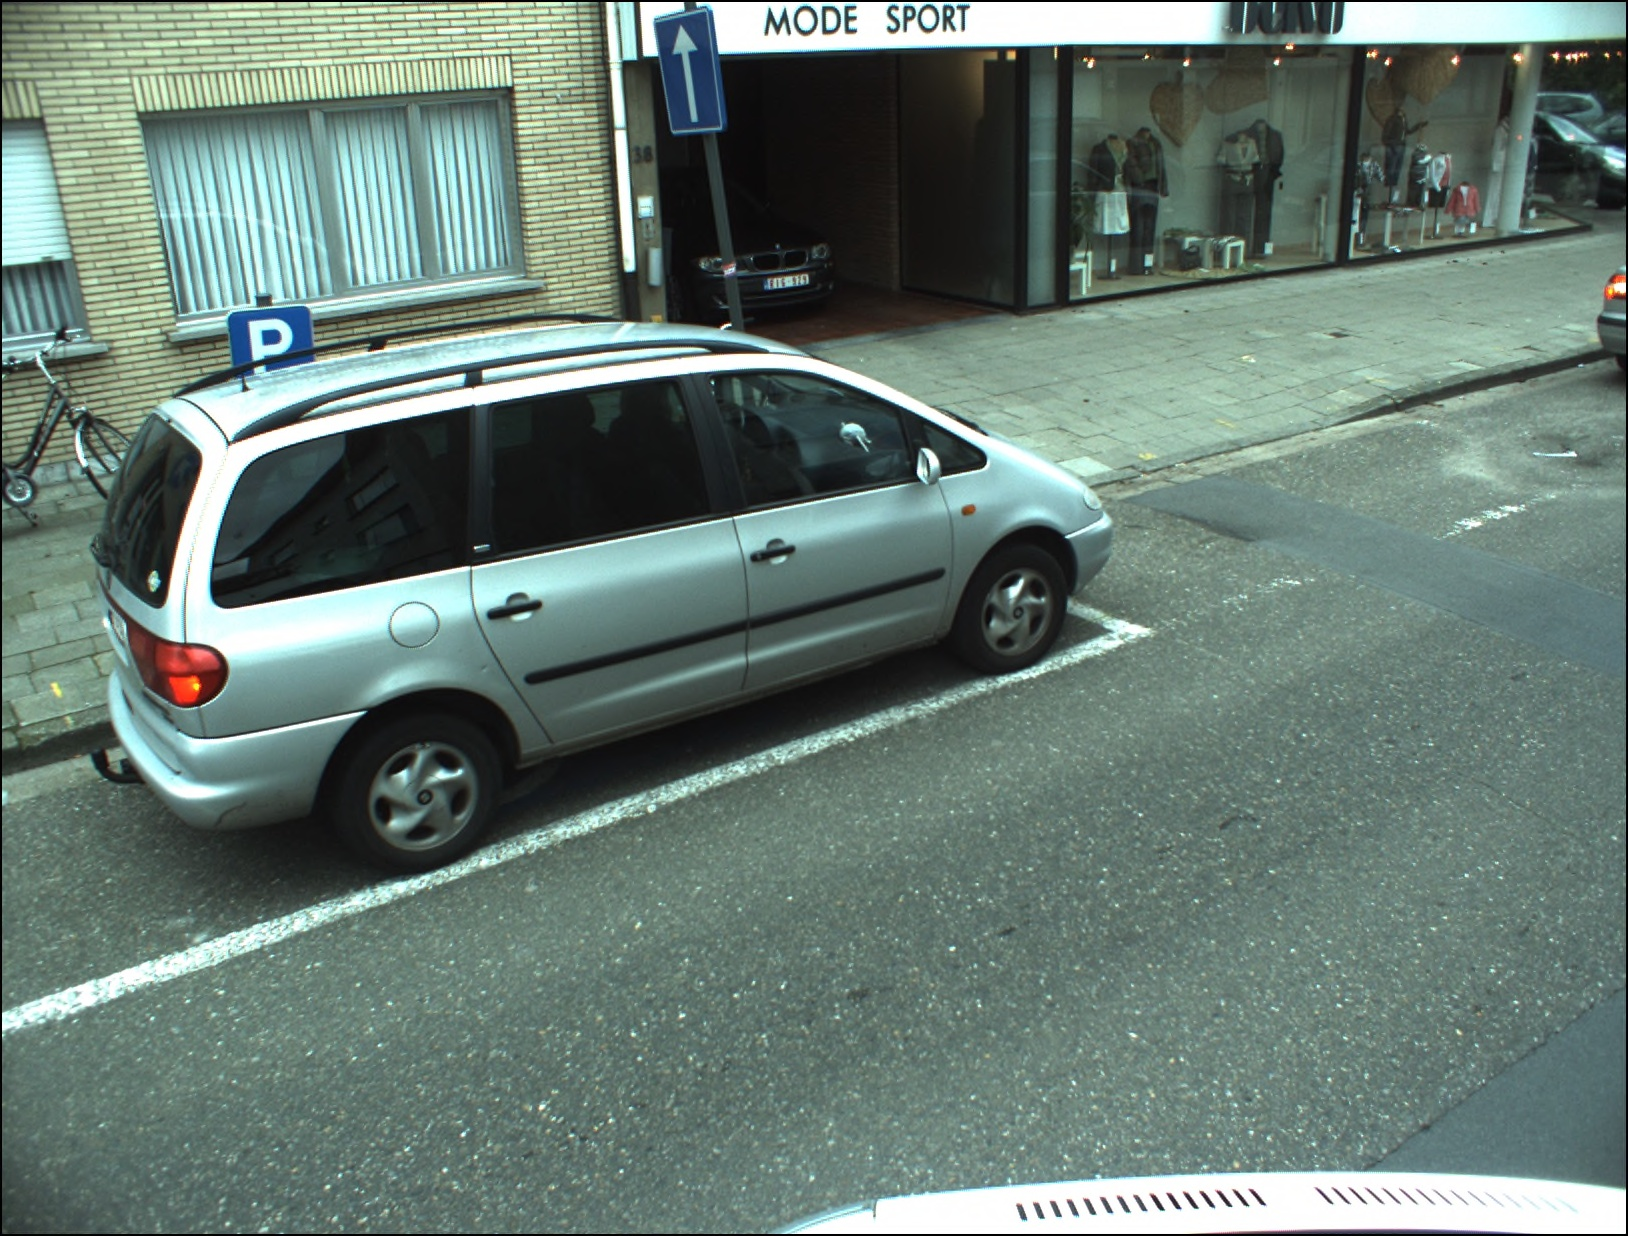oneway: (656, 9, 722, 135)
parking: (228, 309, 310, 370)
